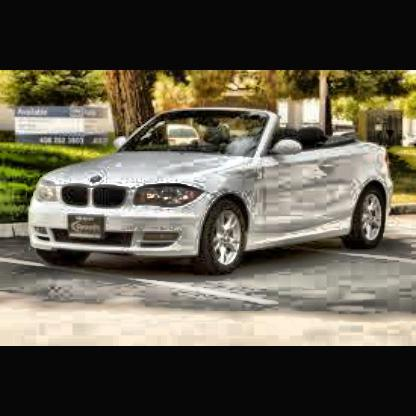BMW 1 Series Convertible 2012: (28, 110, 394, 279)
